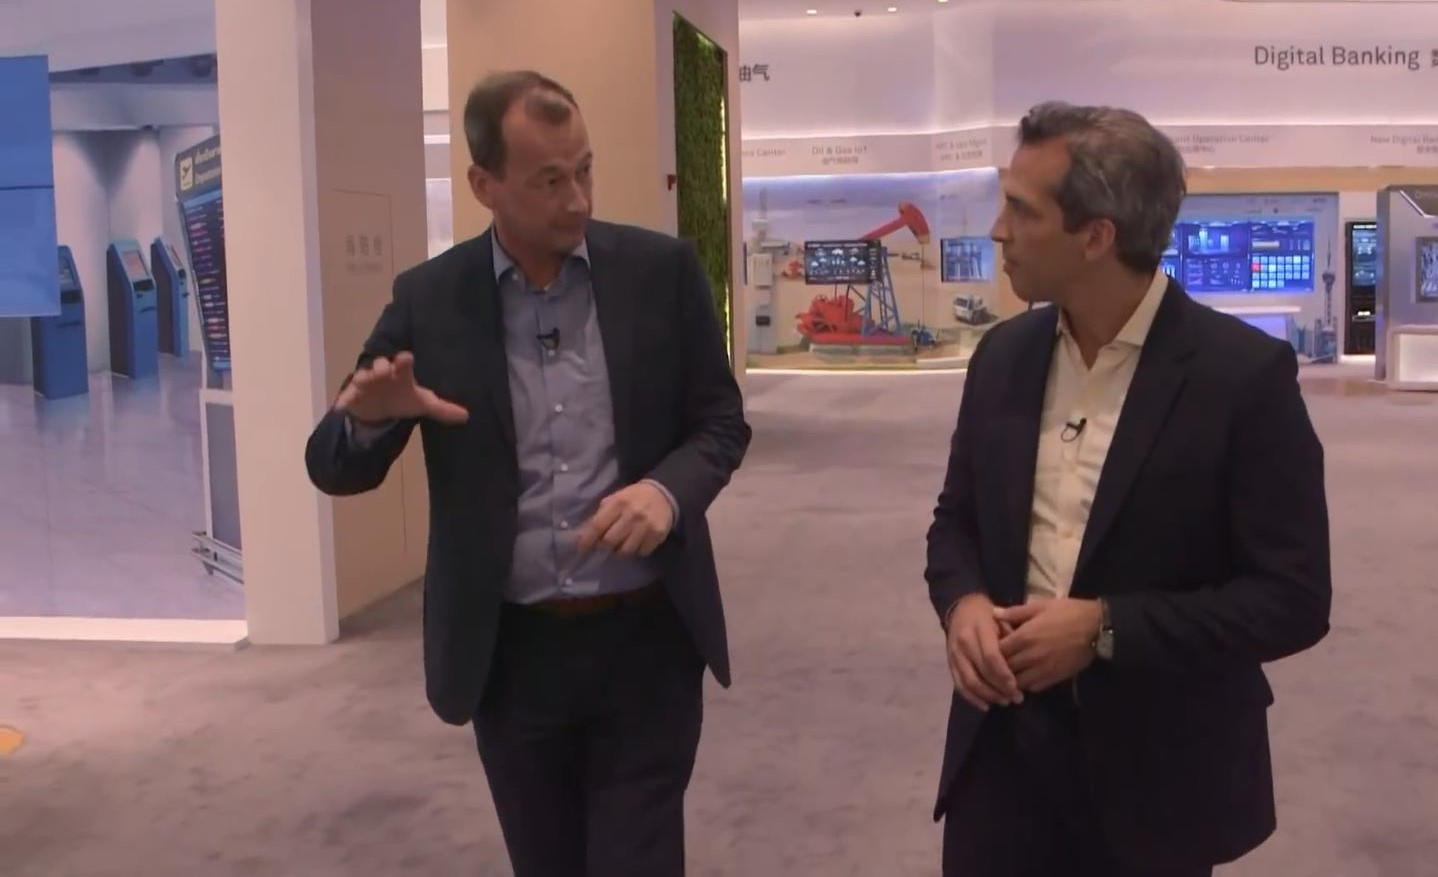without_mask: (516, 141, 591, 241), (1002, 181, 1069, 290)
